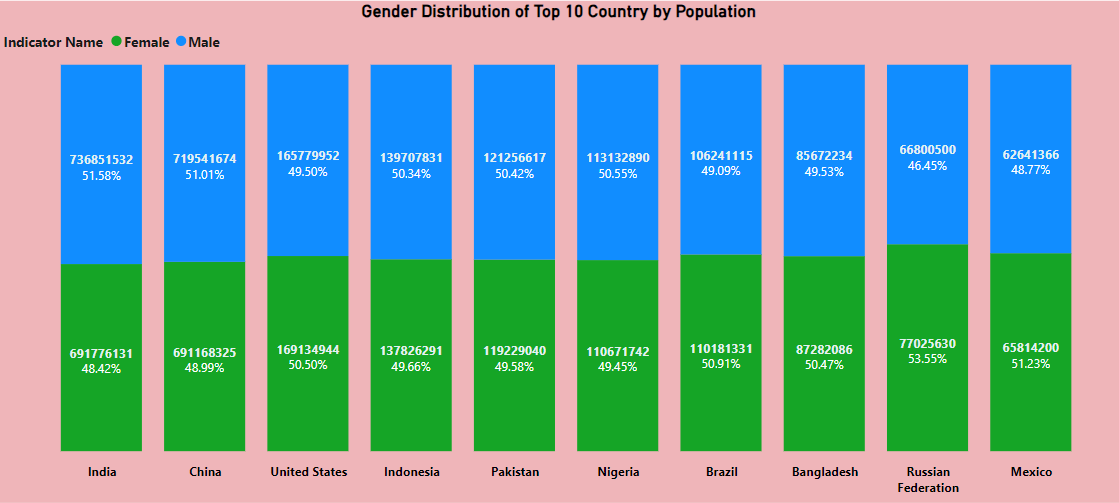

The page's visual inventory and layout, read from the dashboard file:
{"tool":"powerbi","page":{"name":"Page 2","canvas":[1280,720],"ordinal":1},"visuals":[{"type":"hundredPercentStackedColumnChart","title":"Gender Distribution of Top 10 Country by Population","fields":{"Category":["data_total.Country Name"],"Y":["Sum(data_total.2023)"],"Series":["data_total.Indicator Name"]},"box":[89.3,101.5,1096.9,491.6],"z":0}]}

Visuals, with their boxes on the page's 1280x720 design canvas (x1, y1, x2, y2). These are canvas units, not pixel positions in the 1119x503 screenshot, which may show the page scaled, cropped or inside an application window:
"Gender Distribution of Top 10 Country by Population" hundredPercentStackedColumnChart: crop(89, 102, 1186, 593)
